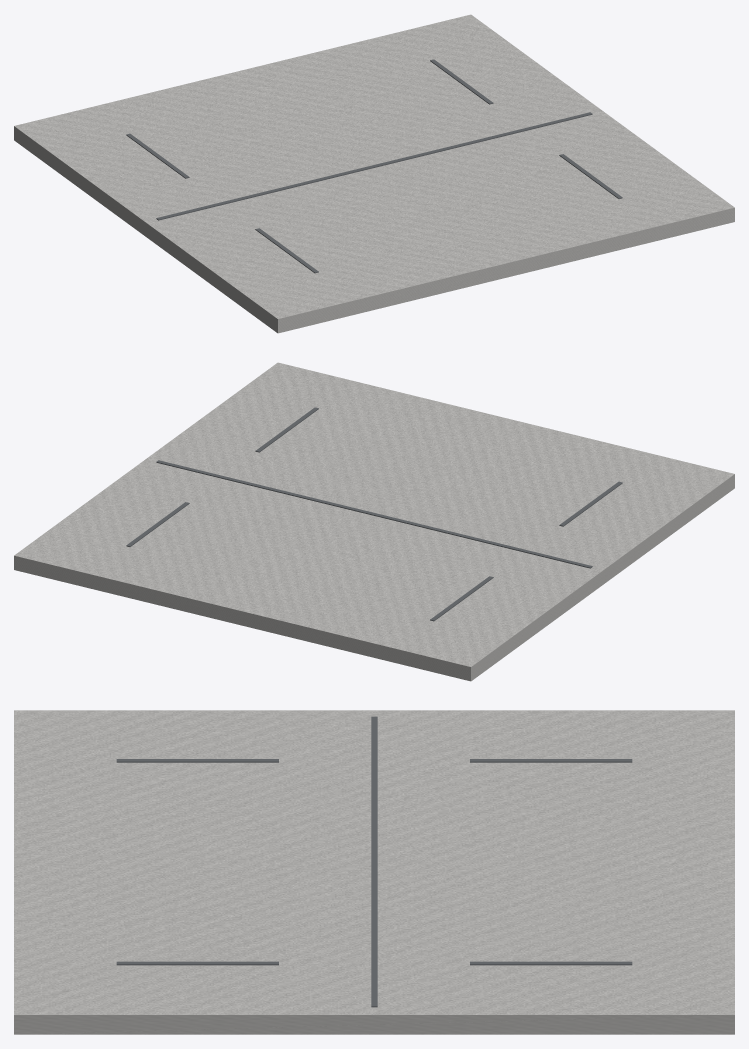
Rendered from demolition-and-site-clearance-demolition-and-site-clea-dae936fe__35665.glb.
3 views of the same model, one above another, from view 1: azimuth 30°, elevation 25°; view 2: azimuth 150°, elevation 25°; view 3: azimuth 270°, elevation 25° (orthographic). The views are drawn at different scales.
Parts seen in each view (by area): view 1: demolition-and-site-clearance-site-ground-tile; view 2: demolition-and-site-clearance-site-ground-tile; view 3: demolition-and-site-clearance-site-ground-tile.
Part boxes in pixels (x1,y1,x2,y2): demolition-and-site-clearance-site-ground-tile: (14,14,734,333); demolition-and-site-clearance-site-ground-tile: (14,362,734,681); demolition-and-site-clearance-site-ground-tile: (14,710,734,1034).
Bounding box in the file's own units: 4 × 0.127 × 4.
2 materials, 1 textured.
